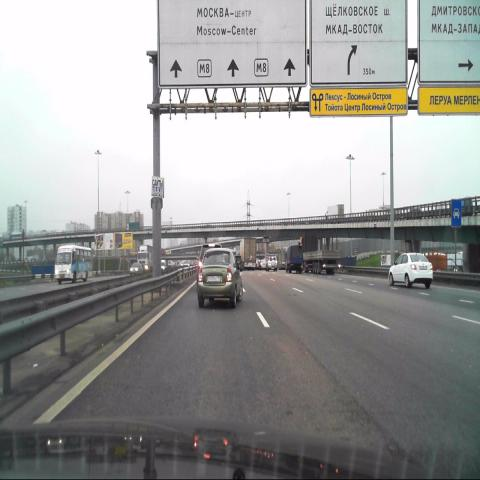5_3: (450, 199, 462, 229)
